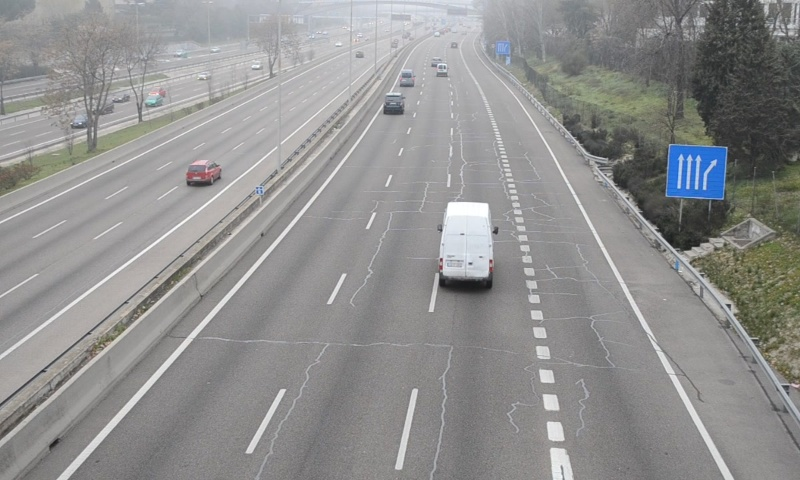car: (383, 92, 404, 114)
van: (440, 200, 493, 287), (398, 68, 414, 86)
